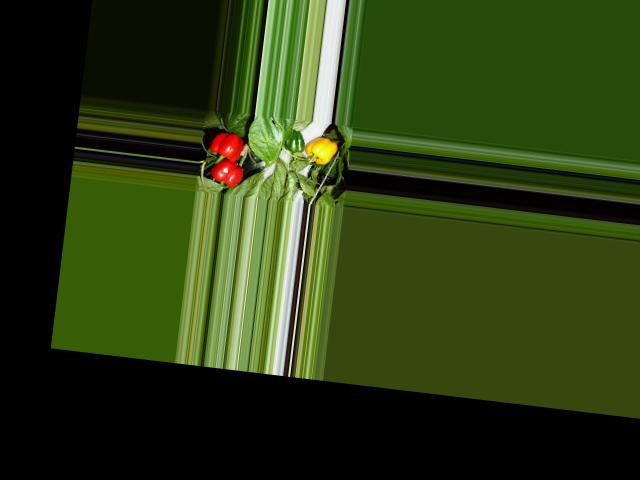bell_pepper: (303, 133, 341, 167)
